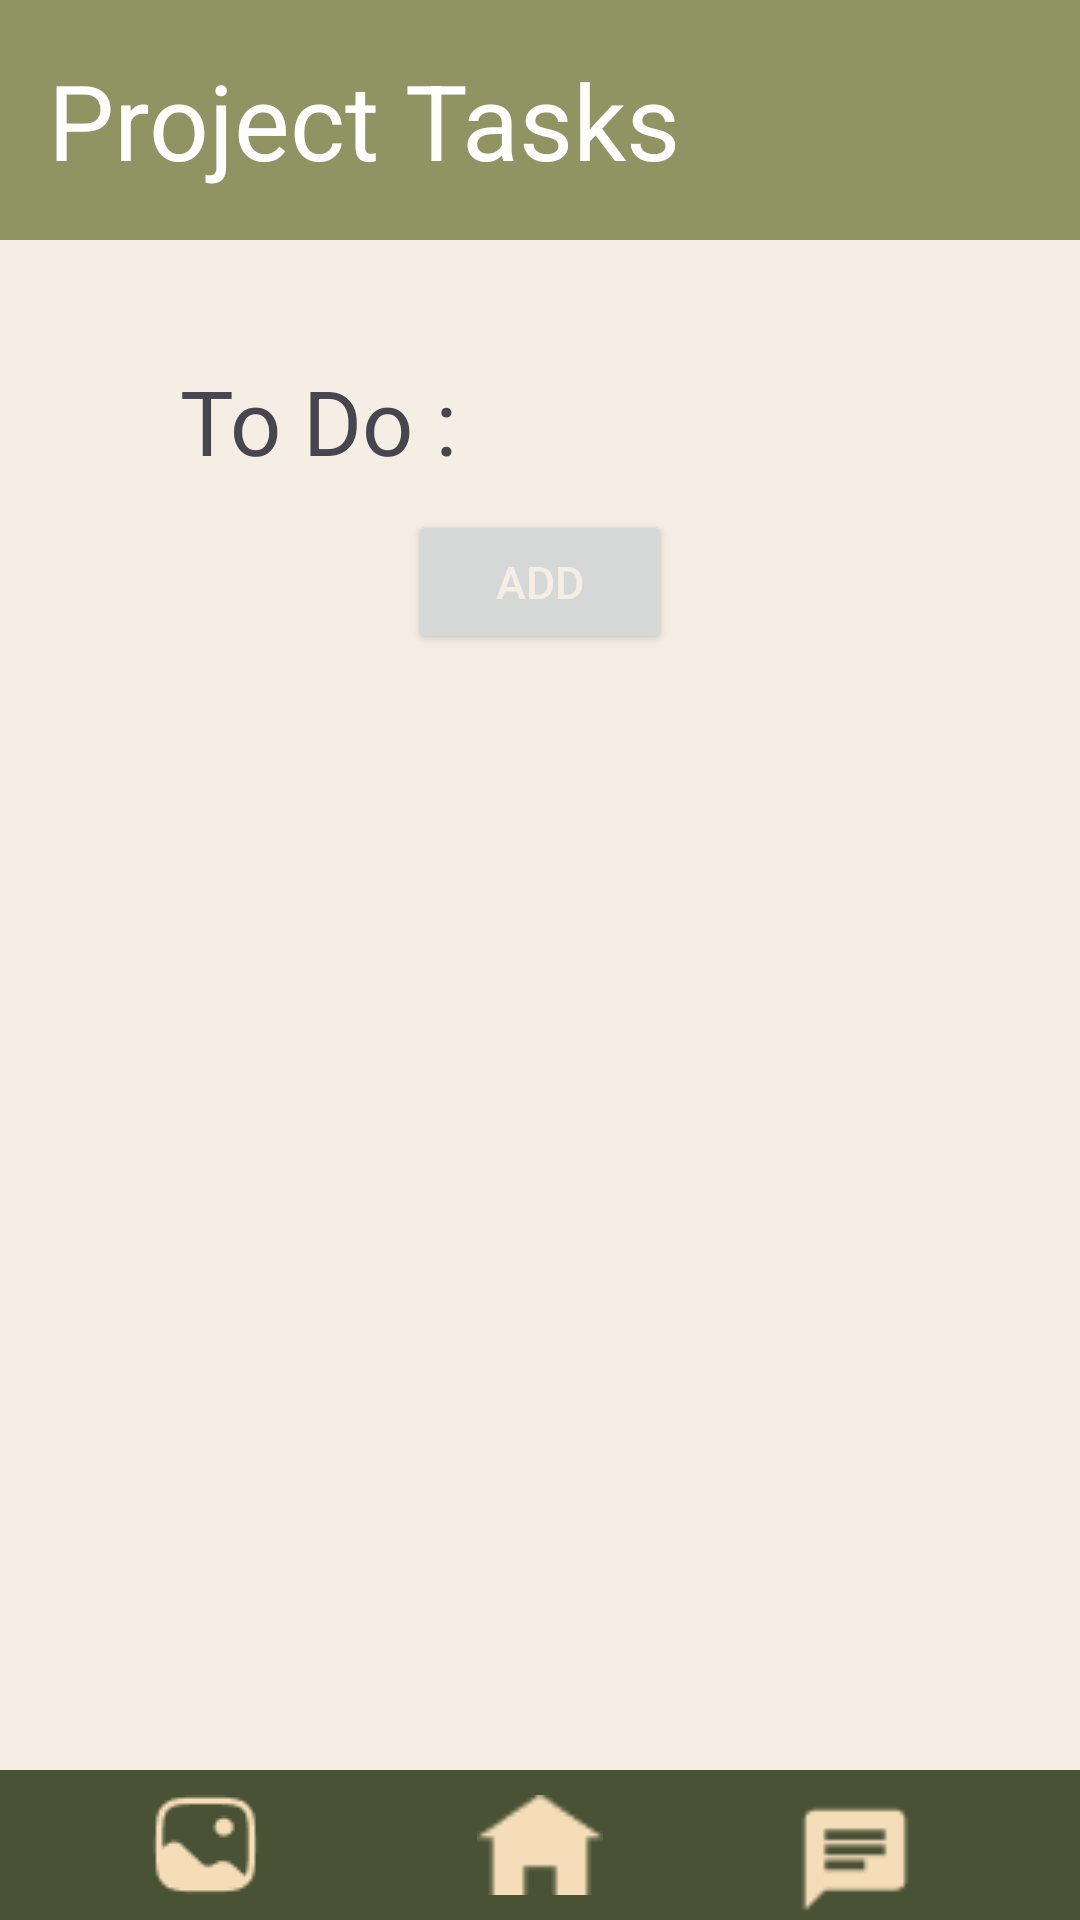

Screen size 1080px x 1920px. Icon name, then its box in pixels as (x1, y1, x2, y2):
chat: (803, 1808, 907, 1910)
home: (477, 1795, 601, 1895)
